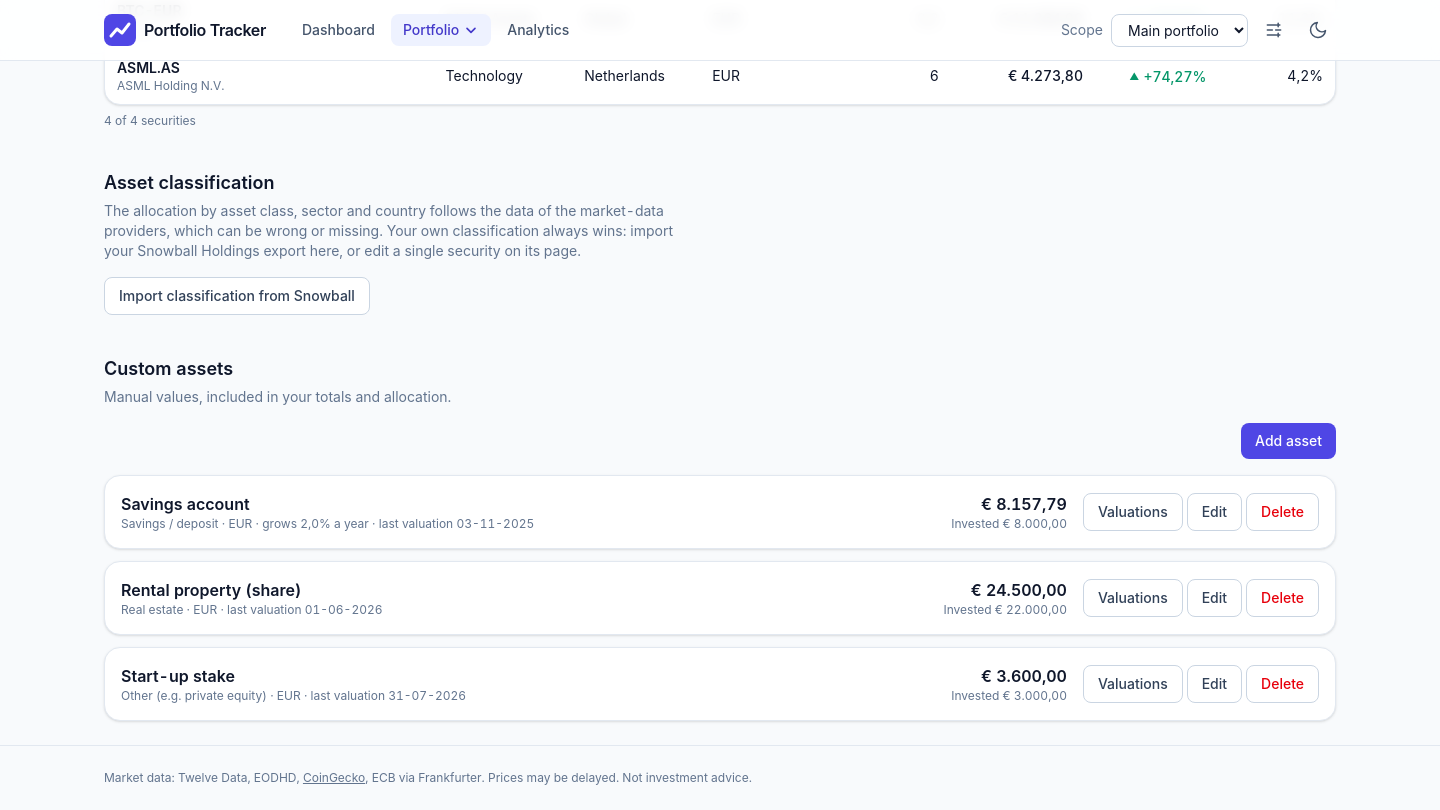
Test: AssetsPage › shows the server error when saving fails
The image size is (1440, 810).
(page scrolled)
Expected: the heading "Rental property (share)" is shown, [121,580,301,600]
Click the button with aria-label "Edit Savings account".
click(1214, 512)  # box [1187,493,1242,531]
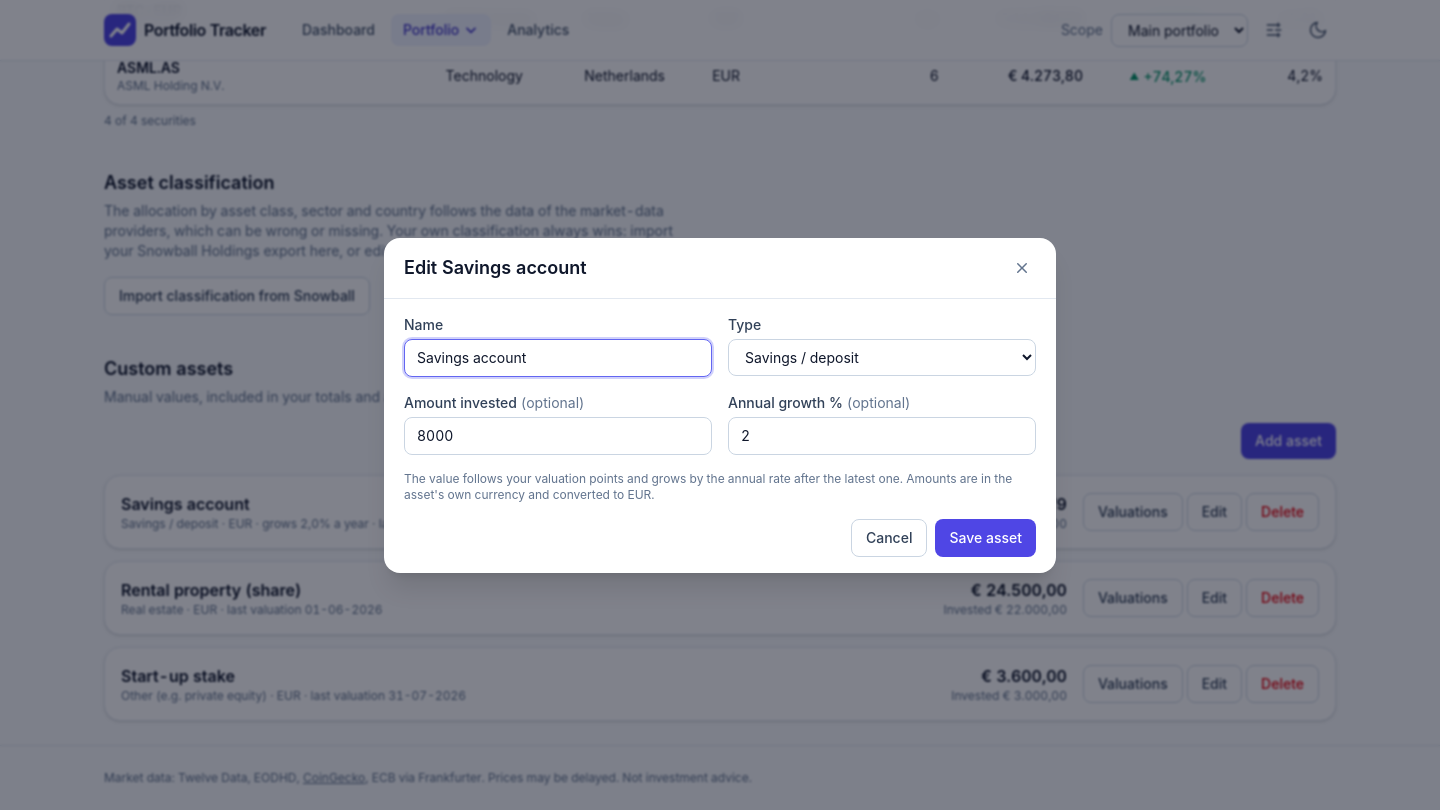
Click the button "Save asset".
click(986, 538)  # box [935,518,1036,556]
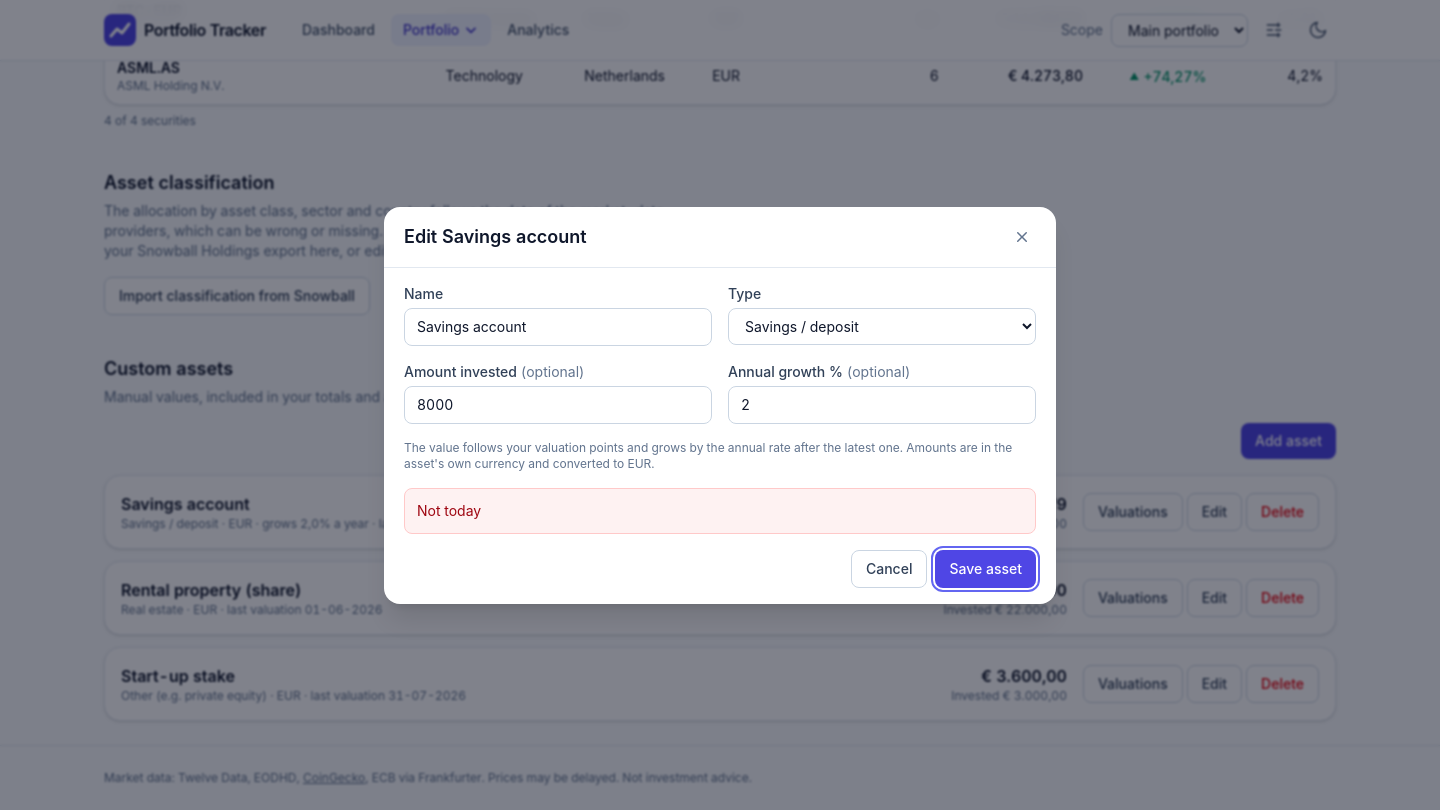
Expected: the message reads "Not today", [417,502,481,518]
